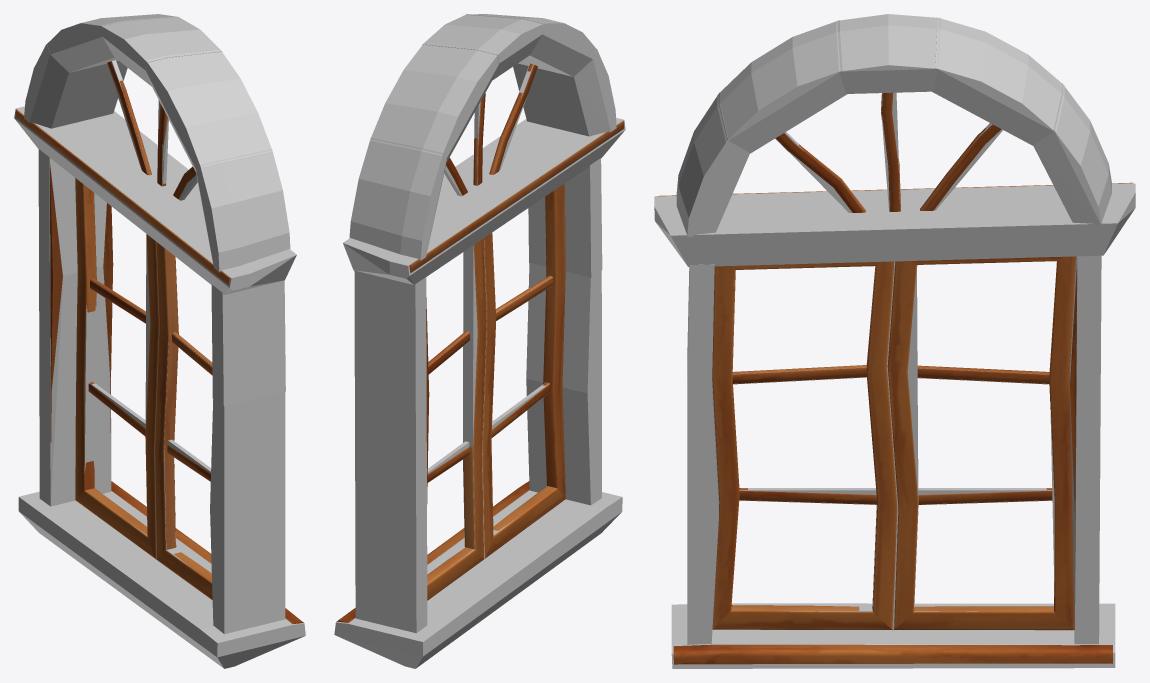
File: SM_PropWindow01TypeH_2_1.fbx
3 renders of one model, left to right at view 1: azimuth 30°, elevation 25°; view 2: azimuth 150°, elevation 25°; view 3: azimuth 270°, elevation 25°, orthographic. The views are drawn at different scales.
Parts seen in each view (by area): view 1: SM_PropWindow01TypeH_2_1_ConvexHulls, SM_PropWindow01TypeH_2_1; view 2: SM_PropWindow01TypeH_2_1_ConvexHulls, SM_PropWindow01TypeH_2_1; view 3: SM_PropWindow01TypeH_2_1_ConvexHulls, SM_PropWindow01TypeH_2_1.
Part boxes in pixels (x1,y1,x2,y2): SM_PropWindow01TypeH_2_1_ConvexHulls: (14, 14, 305, 668); SM_PropWindow01TypeH_2_1: (15, 61, 303, 623); SM_PropWindow01TypeH_2_1_ConvexHulls: (334, 14, 625, 668); SM_PropWindow01TypeH_2_1: (336, 63, 624, 622); SM_PropWindow01TypeH_2_1_ConvexHulls: (654, 14, 1135, 668); SM_PropWindow01TypeH_2_1: (657, 92, 1132, 664).
Size of the model in its own units: 44.93 by 190 by 274.
2 materials, 1 textured.
